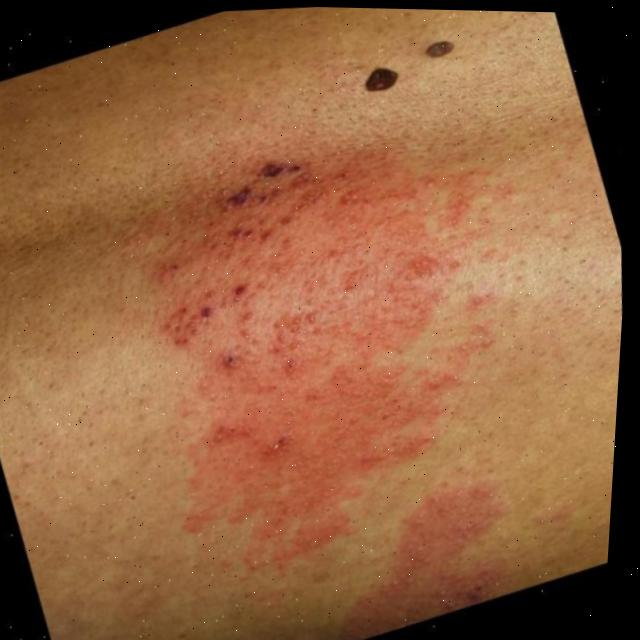Shingles: (169, 145, 459, 482), (353, 482, 502, 640)
